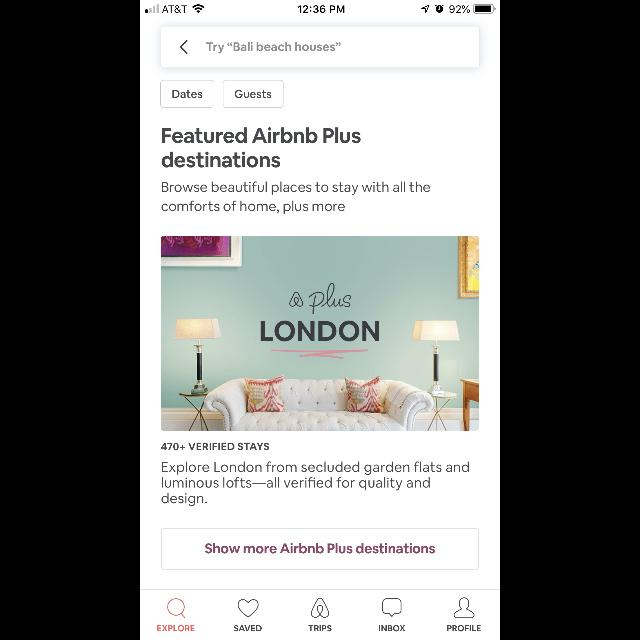icon: (382, 598, 402, 618), (454, 598, 474, 618), (168, 598, 186, 618), (238, 599, 258, 617), (180, 40, 188, 54)
image: (161, 235, 479, 430), (311, 598, 329, 618)
input: (160, 26, 480, 68)
text: (162, 462, 468, 506), (162, 182, 430, 214), (162, 128, 360, 168), (206, 42, 340, 54), (161, 443, 269, 451), (158, 625, 195, 631), (448, 625, 480, 631), (234, 625, 262, 631), (379, 625, 405, 631), (308, 625, 332, 631)
textbutton: (161, 528, 479, 570), (223, 80, 283, 108), (160, 80, 214, 108)
uppertaskbar: (140, 0, 500, 14)
